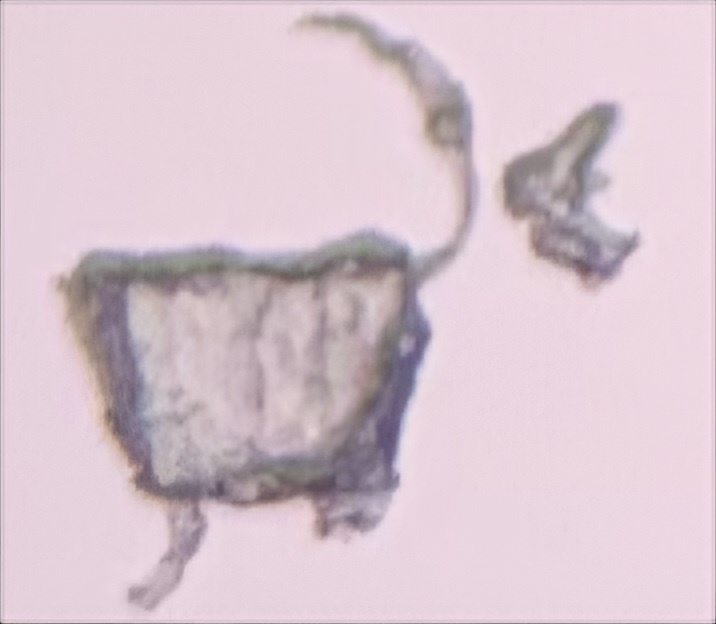microplastic: (52, 12, 478, 611), (500, 102, 644, 294)
